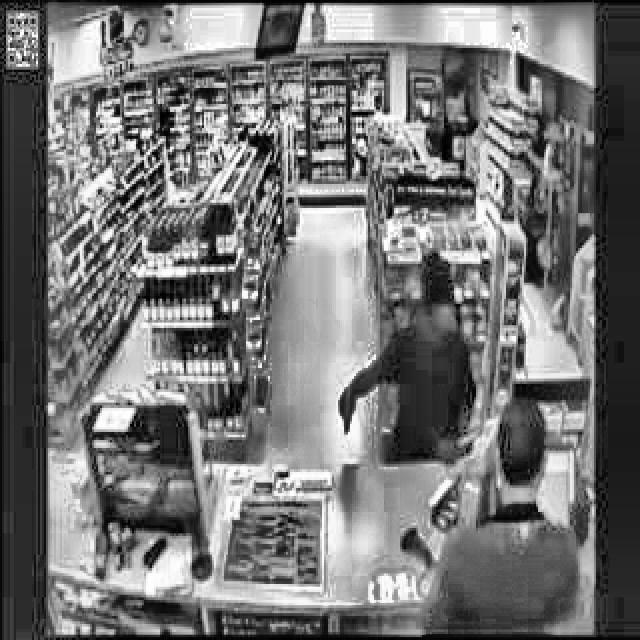robbery: (333, 248, 483, 468)
